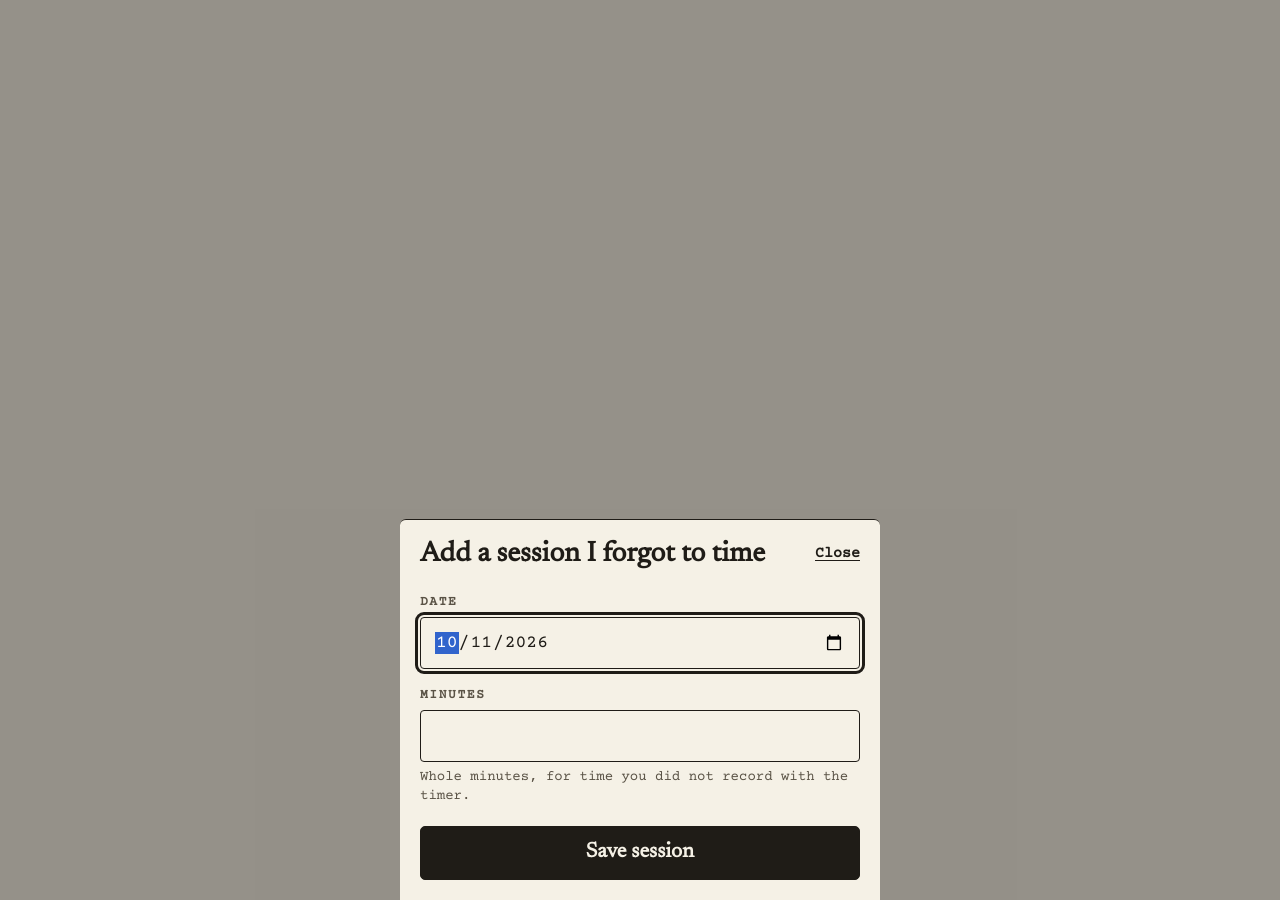
Scenario: ManualEntrySheet › rejects zero minutes with "Enter whole minutes above 0" and stores nothing
The image size is (1280, 900).
In the field labelled "Minutes": (640, 736) [420,710,860,762], type "0"
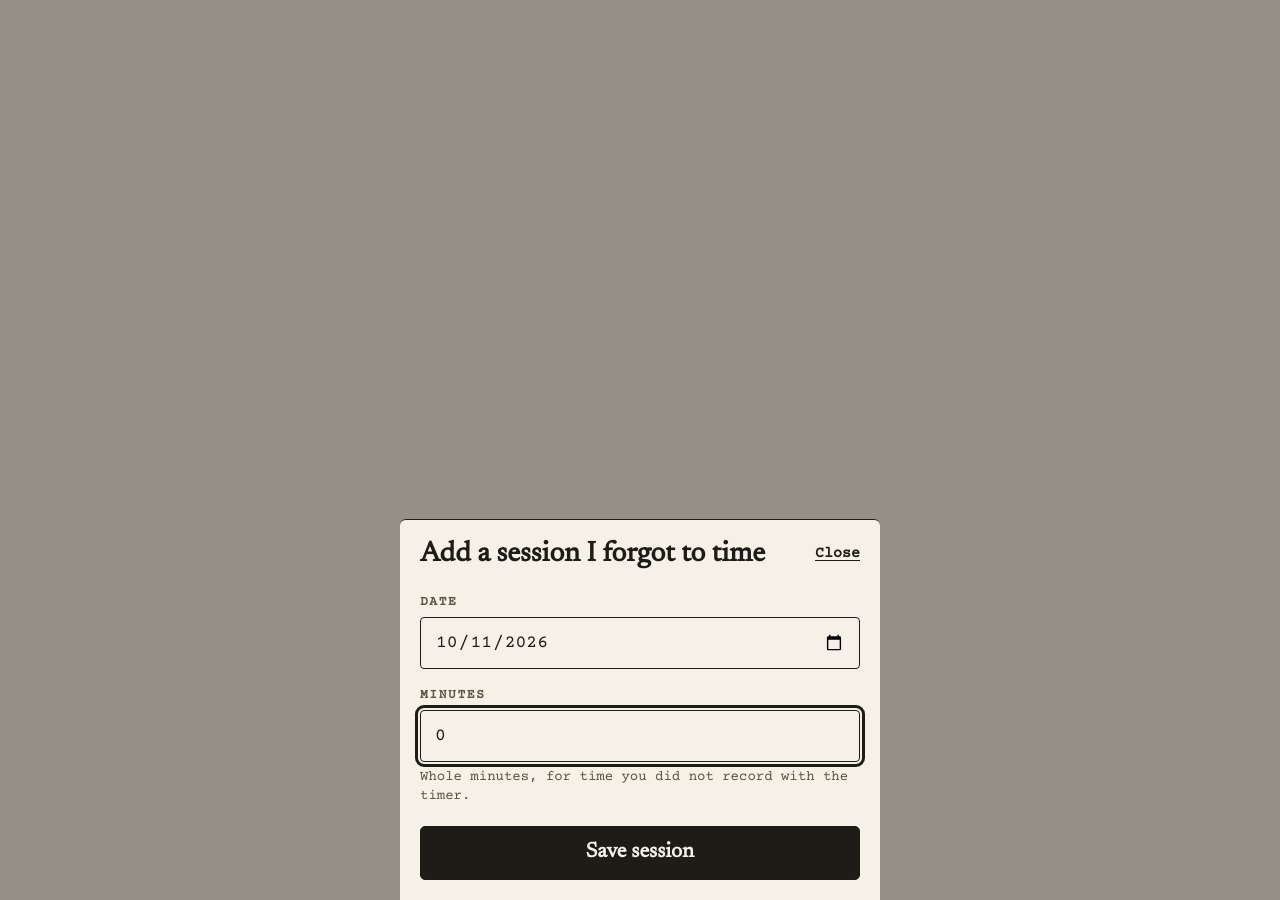
Click the button "Save session": (640, 853) [420,826,860,880]
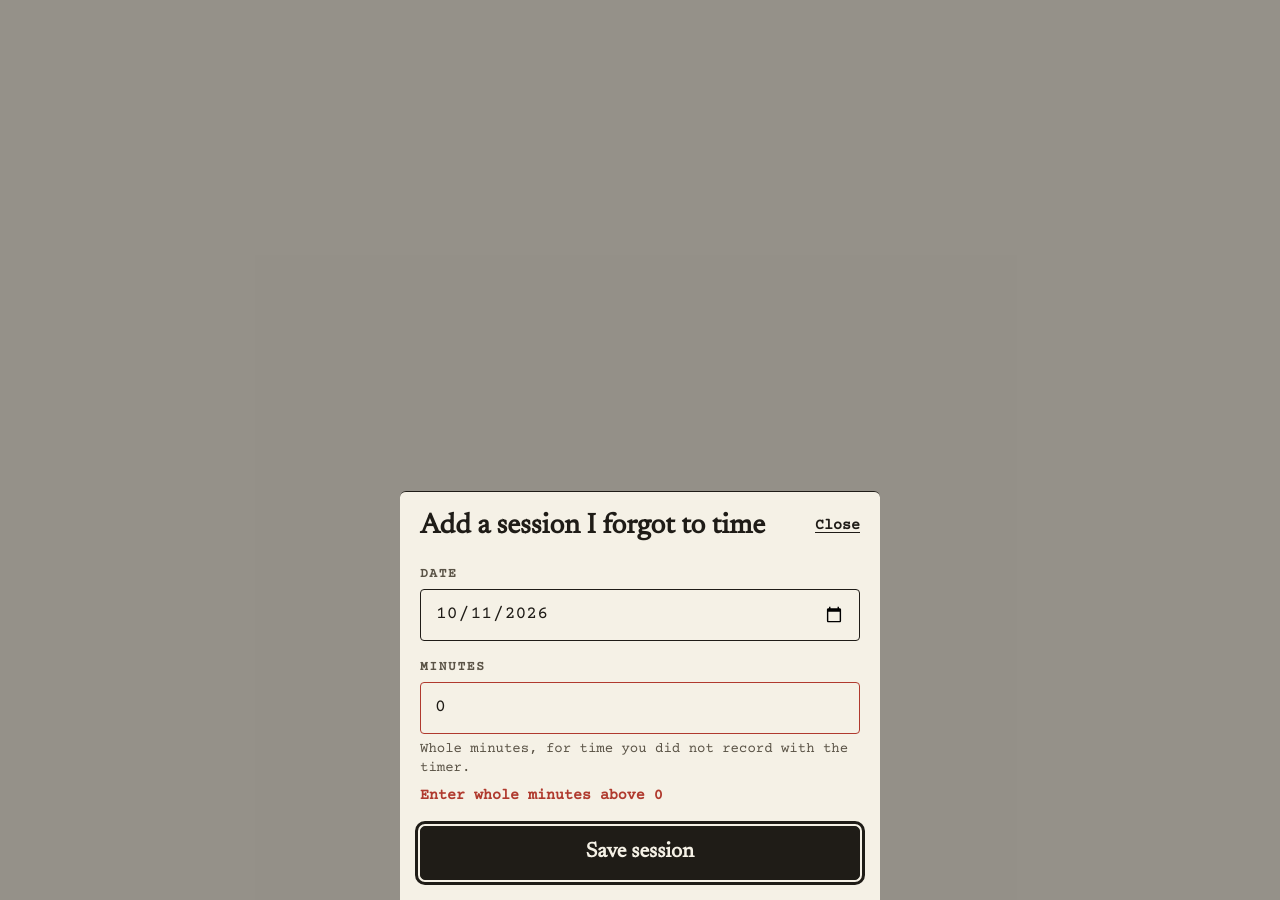
Expected: the message reads "Enter whole minutes above 0", [420,787,663,804]
